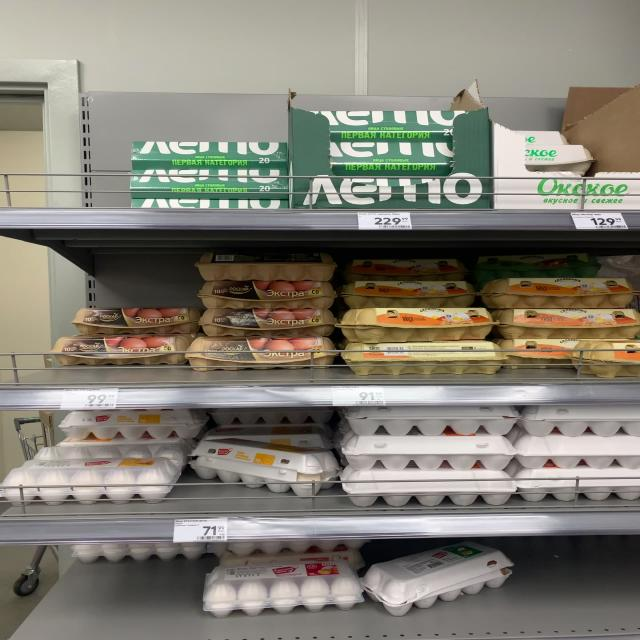egg box: (296, 140, 488, 175), (298, 106, 482, 140), (128, 160, 292, 196), (185, 335, 337, 373), (340, 307, 502, 340), (50, 334, 190, 371), (494, 306, 639, 340), (482, 276, 638, 306), (128, 140, 290, 168), (196, 306, 337, 336), (193, 277, 338, 306), (341, 279, 478, 306), (71, 310, 200, 334), (345, 258, 468, 280)
